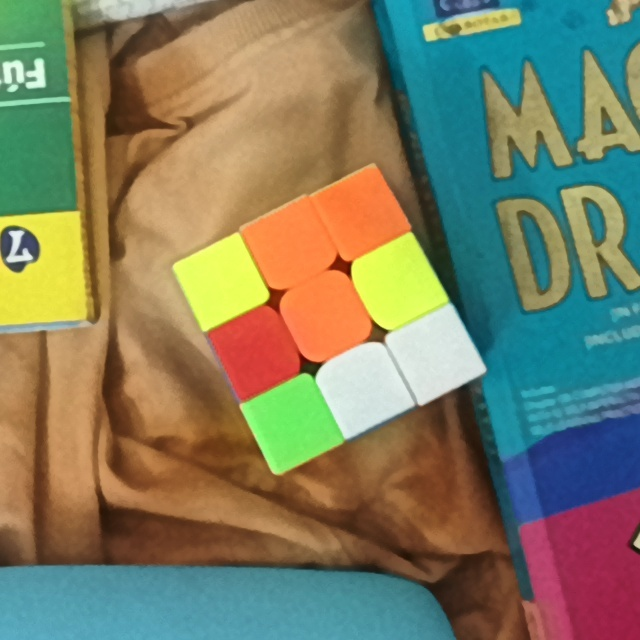tile: (295, 288, 356, 346), (223, 324, 286, 378), (335, 359, 394, 413), (407, 326, 464, 381), (332, 187, 388, 240), (265, 396, 321, 449), (368, 258, 425, 309), (264, 219, 318, 269), (194, 256, 247, 306)
